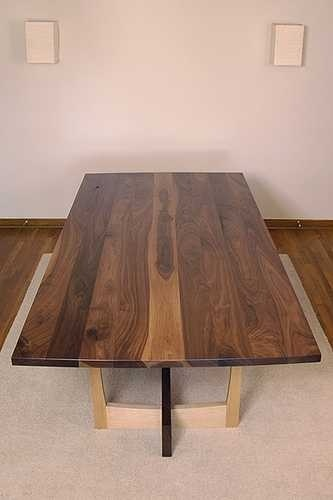obstacle: (12, 173, 320, 454)
